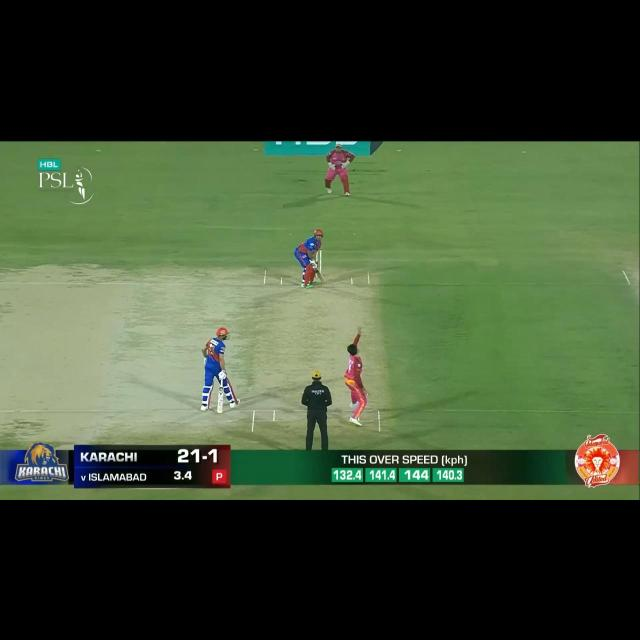bat: (313, 267, 327, 284), (217, 388, 224, 412)
toe: (216, 406, 224, 413), (321, 279, 326, 284)
